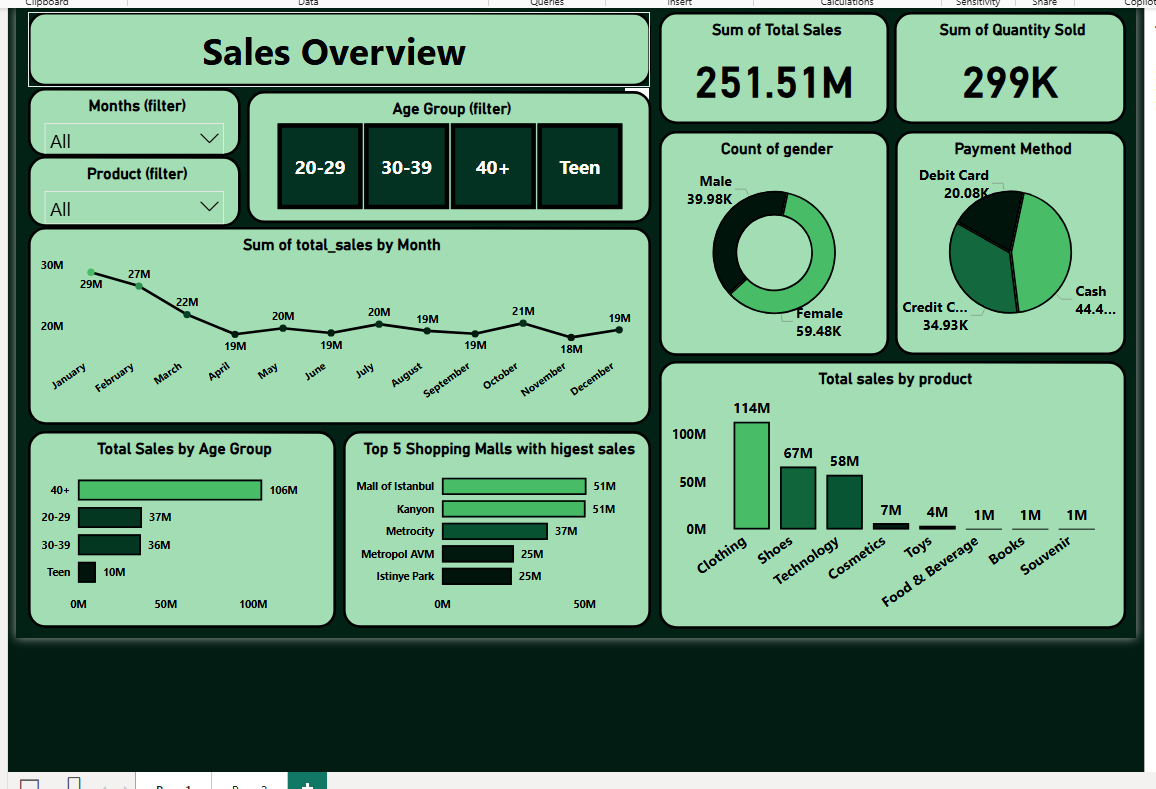

Layout of this report page (visuals, bound fields, positions):
{"tool":"powerbi","page":{"name":"Page 1","canvas":[1280,720],"ordinal":0},"visuals":[{"type":"textbox","box":[13.3,5,711.7,85],"z":0},{"type":"card","title":"Sum of Total Sales","fields":{"Values":["Sum(cleaned_data.total_sales)"]},"box":[735,5,263.3,128.3],"z":1000},{"type":"card","title":"Sum of Quantity Sold","fields":{"Values":["Sum(cleaned_data.quantity)"]},"box":[1003.3,5,265,128.3],"z":2000},{"type":"pieChart","title":"Payment Method","fields":{"Category":["cleaned_data.payment_method"],"Y":["CountNonNull(cleaned_data.payment_method)"]},"box":[1004.8,140.8,264,256],"z":3000},{"type":"donutChart","title":"Count of gender","fields":{"Y":["CountNonNull(cleaned_data.gender)"],"Category":["cleaned_data.gender"]},"box":[735,140,263.3,256.7],"z":4000},{"type":"clusteredColumnChart","title":"Total sales by product","fields":{"Y":["Sum(cleaned_data.total_sales)"],"Category":["cleaned_data.category"]},"box":[734.4,403.2,534.4,305.6],"z":5000},{"type":"clusteredBarChart","title":"Top 5 Shopping Malls with higest sales","fields":{"Category":["cleaned_data.shopping_mall"],"Y":["Sum(cleaned_data.total_sales)"]},"box":[373.3,483.3,351.7,225],"z":6000},{"type":"lineChart","fields":{"Y":["Sum(cleaned_data.total_sales)"],"Category":["cleaned_data.invoice_date.Variation.Date Hierarchy.Month"]},"box":[13.7,249.9,711.6,225.5],"z":7000},{"type":"slicer","title":"Age Group (filter)","fields":{"Values":["cleaned_data.age_group"]},"box":[263.6,94.5,461.7,150.9],"z":8000},{"type":"slicer","title":"Months (filter)","fields":{"Values":["cleaned_data.invoice_date.Variation.Date Hierarchy.Month"]},"box":[13.9,91.7,243.1,77.8],"z":9000},{"type":"slicer","title":"Product (filter)","fields":{"Values":["cleaned_data.category"]},"box":[13.9,169.4,243.1,80.6],"z":10000},{"type":"clusteredBarChart","title":"Total Sales by Age Group","fields":{"Y":["Sum(cleaned_data.total_sales)"],"Category":["cleaned_data.age_group"]},"box":[13.3,483.3,351.7,225],"z":11000}]}

Visuals, with their boxes on the page's 1280x720 design canvas (x1, y1, x2, y2). These are canvas units, not pixel positions in the 1156x789 screenshot, which may show the page scaled, cropped or inside an application window:
textbox: x1=13 y1=5 x2=725 y2=90
"Sum of Total Sales" card: x1=735 y1=5 x2=998 y2=133
"Sum of Quantity Sold" card: x1=1003 y1=5 x2=1268 y2=133
"Payment Method" pieChart: x1=1005 y1=141 x2=1269 y2=397
"Count of gender" donutChart: x1=735 y1=140 x2=998 y2=397
"Total sales by product" clusteredColumnChart: x1=734 y1=403 x2=1269 y2=709
"Top 5 Shopping Malls with higest sales" clusteredBarChart: x1=373 y1=483 x2=725 y2=708
lineChart - Sum(cleaned_data.total_sales) x cleaned_data.invoice_date.Variation.Date Hierarchy.Month: x1=14 y1=250 x2=725 y2=475
"Age Group (filter)" slicer: x1=264 y1=94 x2=725 y2=245
"Months (filter)" slicer: x1=14 y1=92 x2=257 y2=170
"Product (filter)" slicer: x1=14 y1=169 x2=257 y2=250
"Total Sales by Age Group" clusteredBarChart: x1=13 y1=483 x2=365 y2=708
